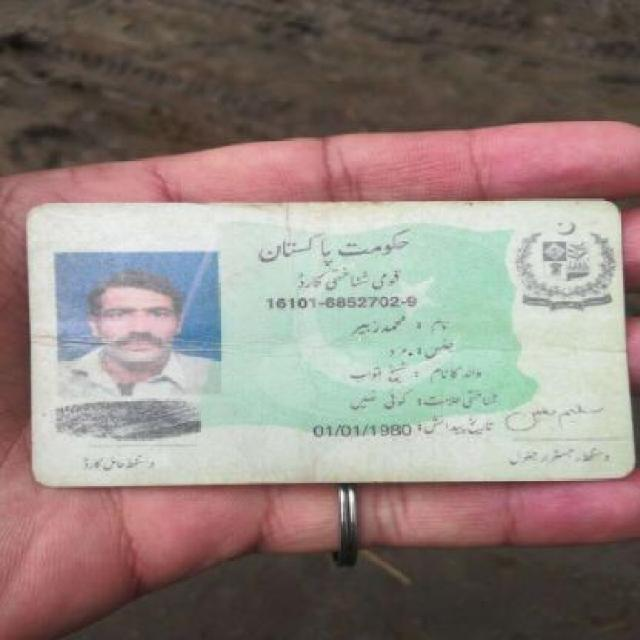Front: (18, 190, 634, 484)
